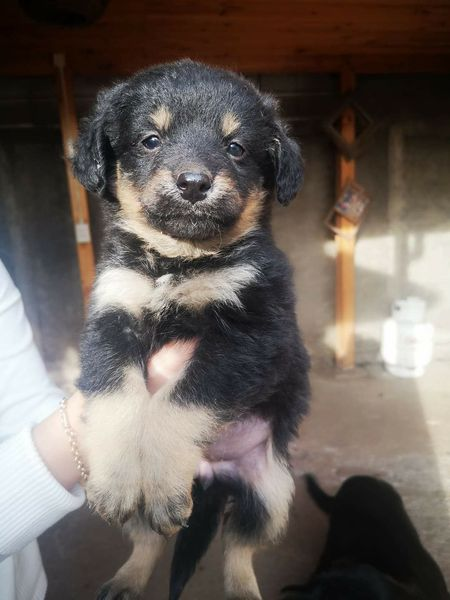dog: (61, 44, 331, 595)
